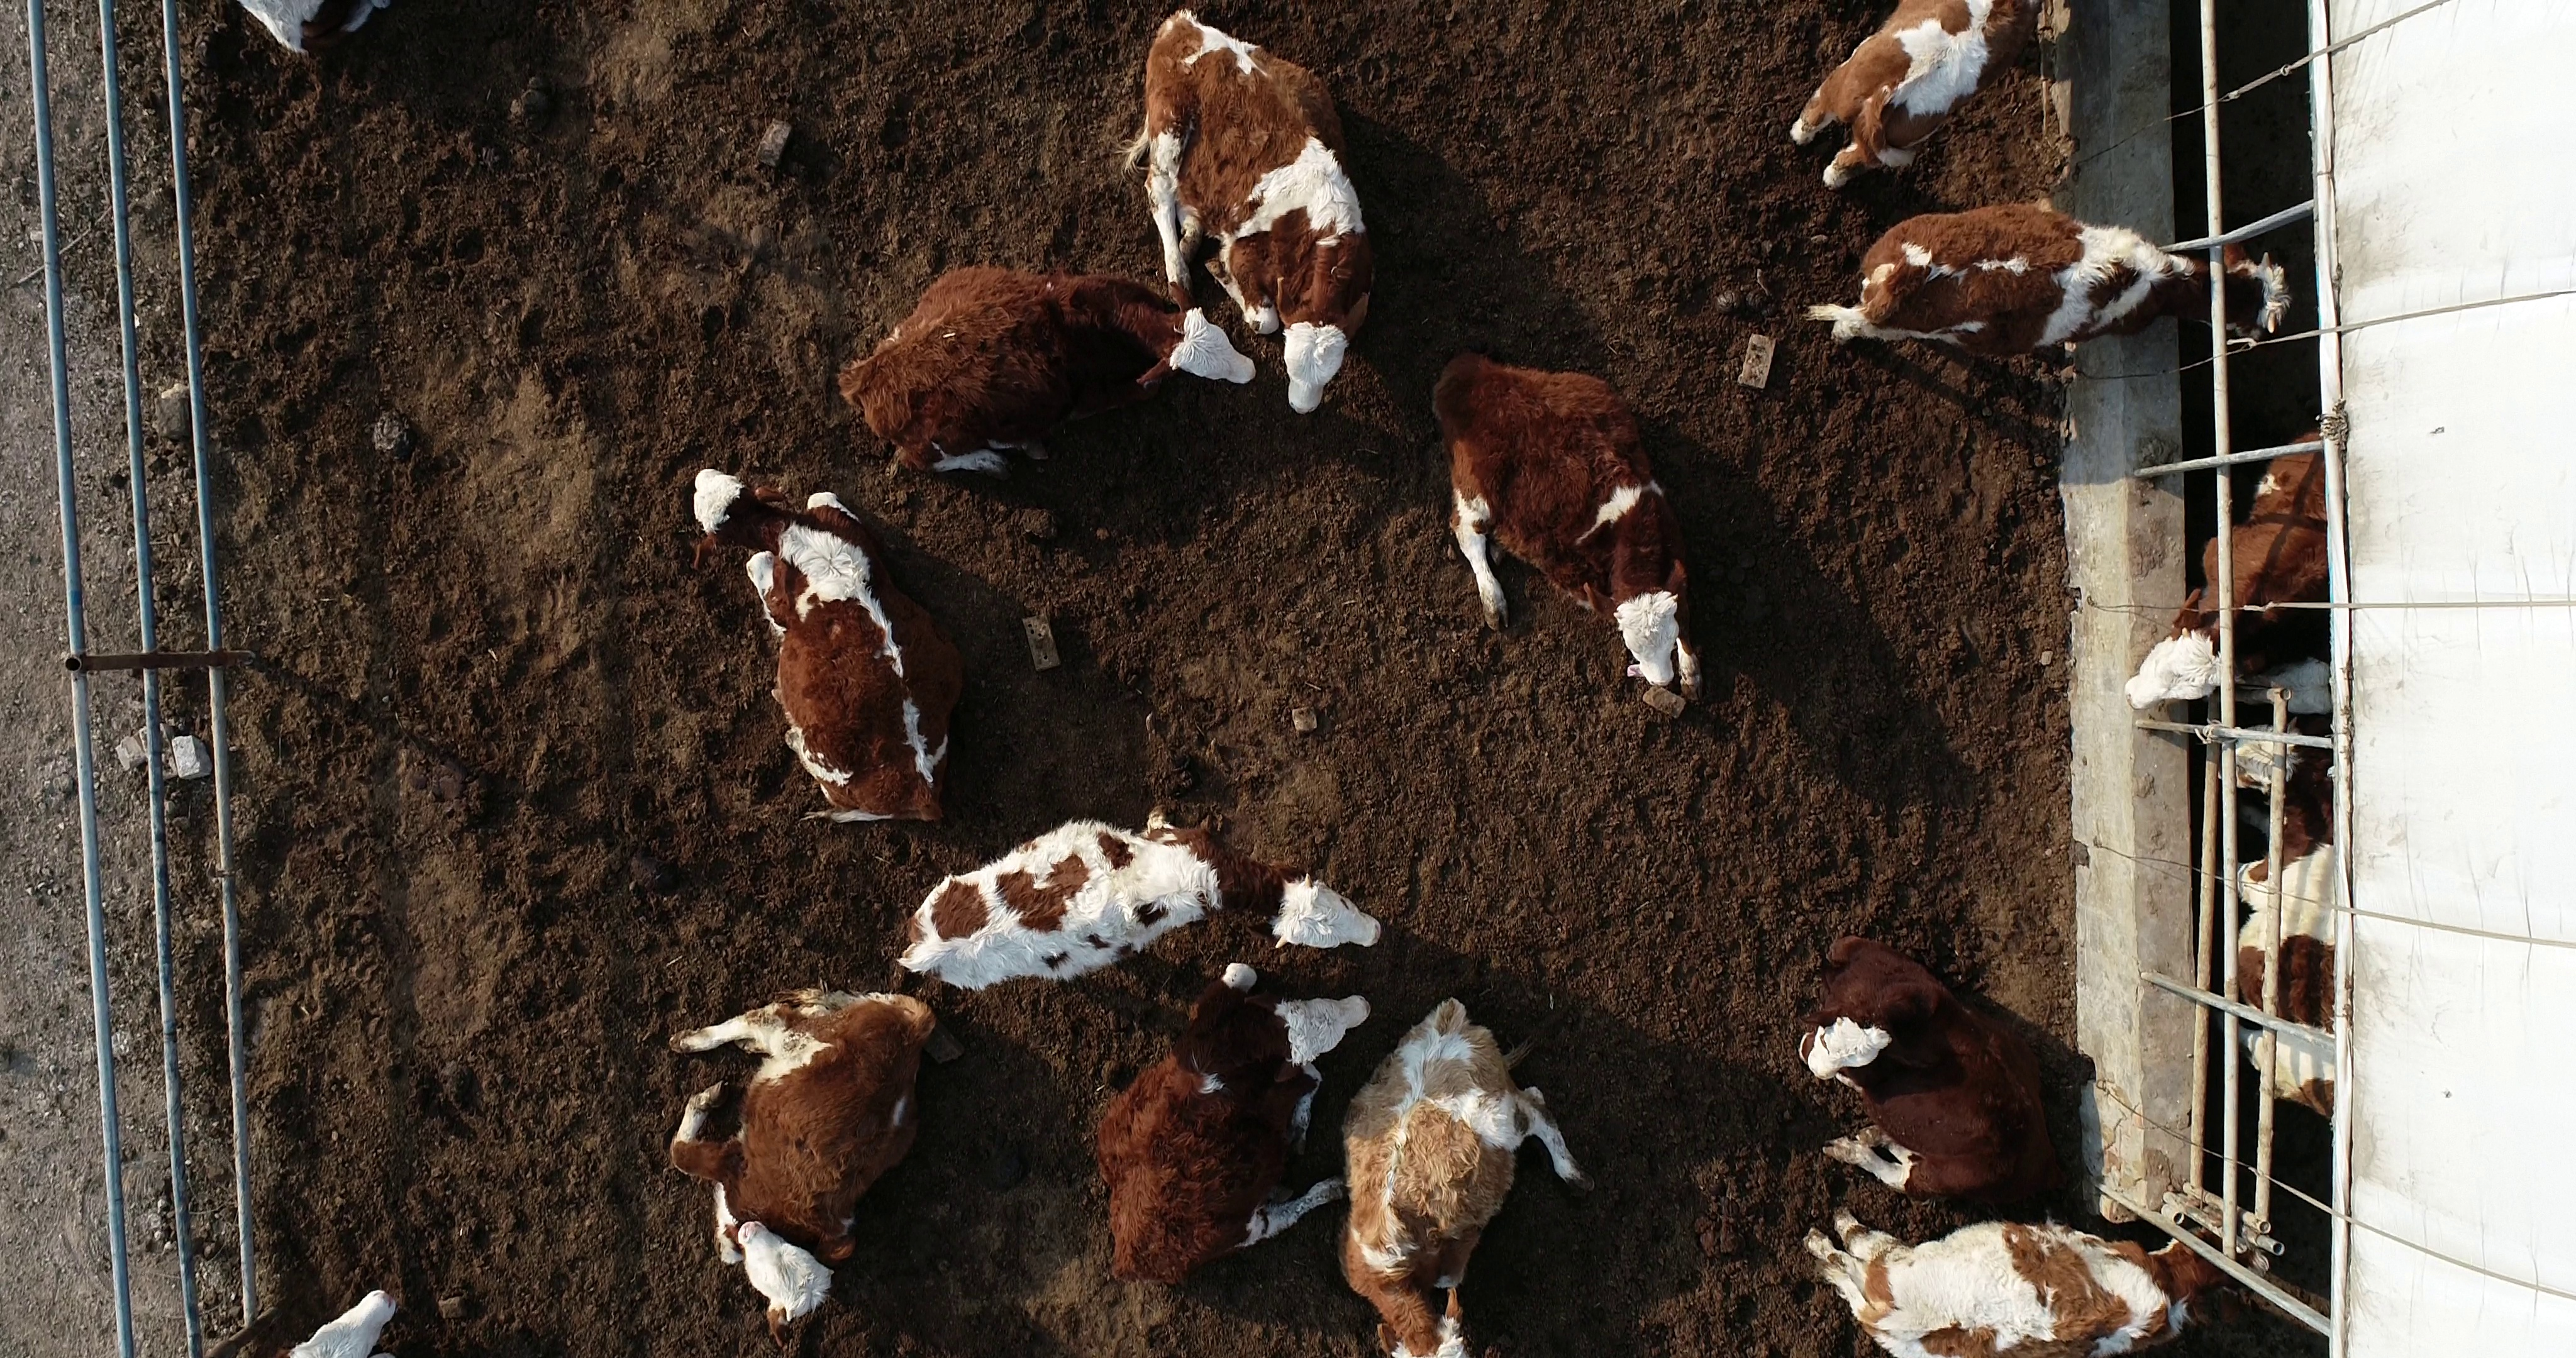cattle: (1111, 2, 1382, 419), (681, 462, 969, 833), (1426, 341, 1709, 692), (1329, 993, 1600, 1358), (884, 797, 1387, 990), (833, 269, 1264, 479), (1803, 201, 2295, 361)
